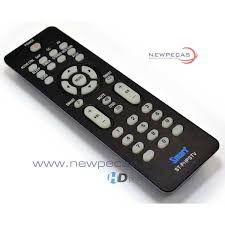remote control: (0, 30, 146, 139)
